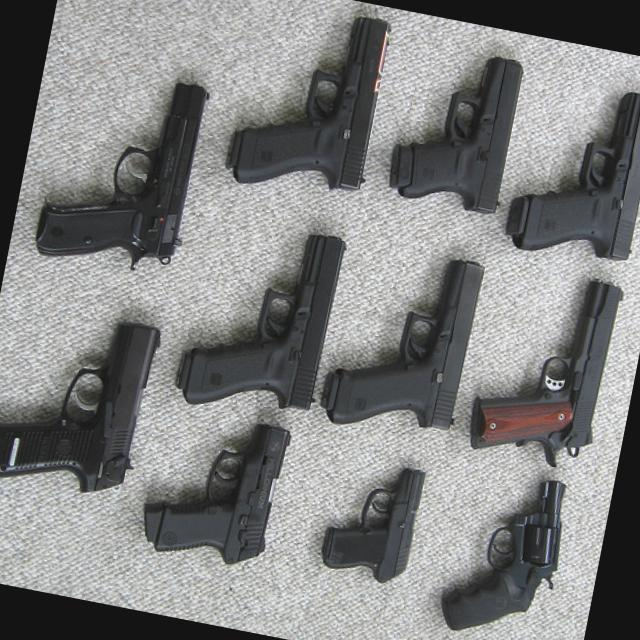handgun: (30, 55, 214, 282), (173, 212, 349, 426), (223, 0, 401, 206), (0, 294, 167, 504), (136, 404, 294, 576)
